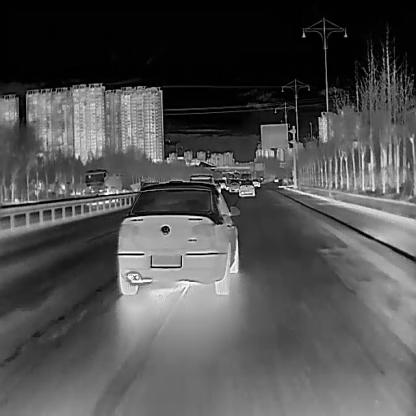car: (116, 184, 238, 291), (238, 180, 254, 196), (228, 180, 239, 192)
truck: (80, 169, 131, 206)
